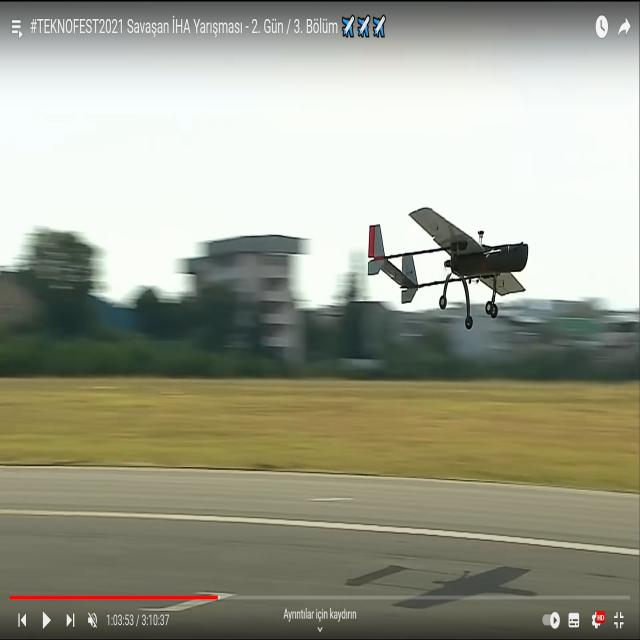iha: (367, 240, 530, 298)
